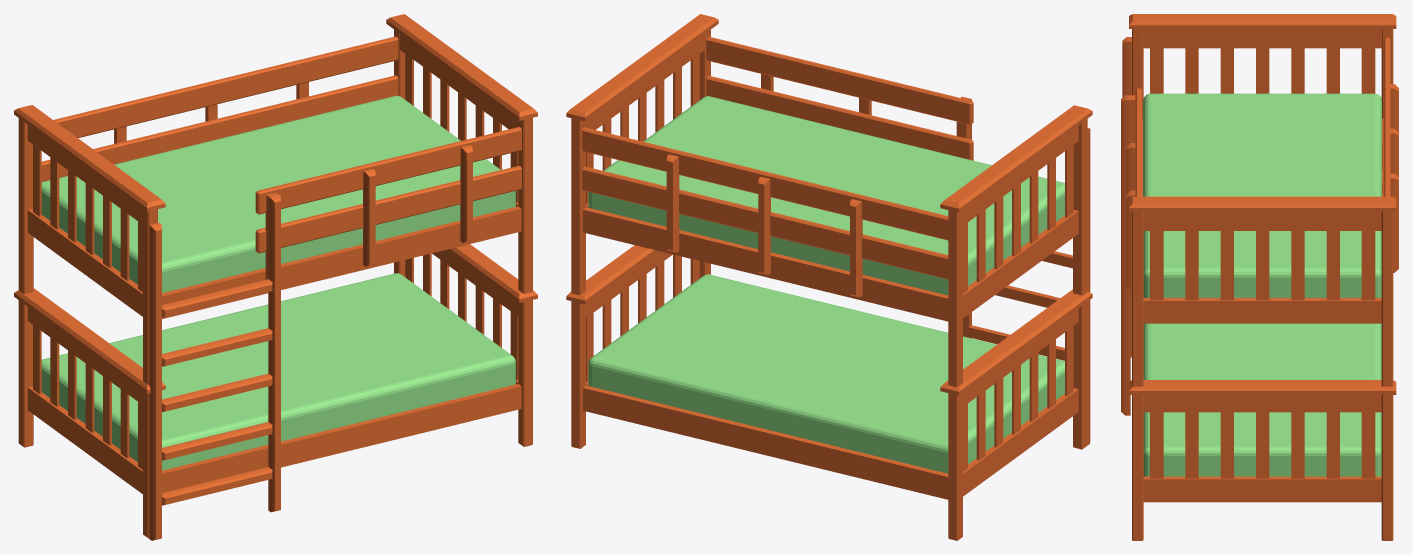
The model's file is litera.fbx.
3 renders of one model, left to right at view 1: azimuth 30°, elevation 25°; view 2: azimuth 150°, elevation 25°; view 3: azimuth 270°, elevation 25°, orthographic.
Visible parts, largest first — view 1: litera, colchones; view 2: litera, colchones; view 3: litera, colchones.
Boxes of the visible parts, x1,y1,x2,y2 form: litera: (14,14,537,540); colchones: (41,95,515,470); litera: (566,14,1092,540); colchones: (588,96,1064,473); litera: (1121,14,1398,540); colchones: (1143,93,1381,476).
Bounding box in the file's own units: 80401 × 66070 × 49223.
